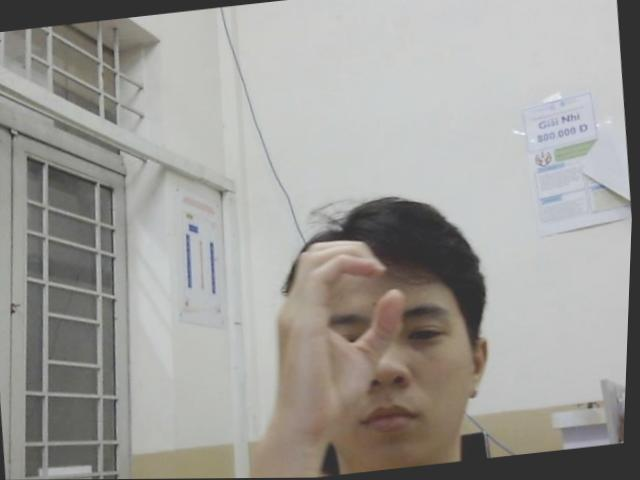C: (262, 232, 422, 439)
